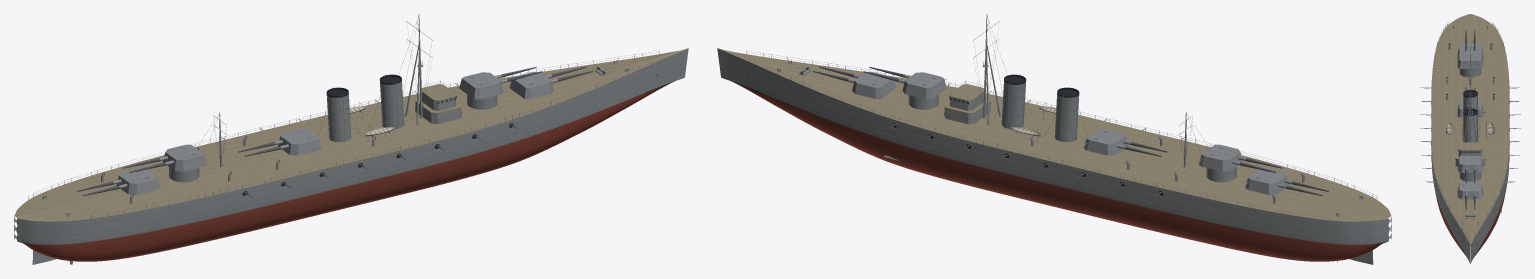
File: king_george_v_1911.glb
The picture shows the model from 3 angles, left to right: view 1: azimuth 30°, elevation 25°; view 2: azimuth 150°, elevation 25°; view 3: azimuth 270°, elevation 25°; orthographic projection. The views are drawn at different scales.
Parts seen in each view (by area): view 1: King George V class (1911); view 2: King George V class (1911); view 3: King George V class (1911).
Boxes of the visible parts, x1=… form: King George V class (1911): x1=14, y1=14, x2=688, y2=264; King George V class (1911): x1=717, y1=14, x2=1391, y2=264; King George V class (1911): x1=1420, y1=14, x2=1520, y2=263.
Size of the model in its own units: 188 by 42.4 by 33.97.
Materials: 8 (2 with a texture image).
